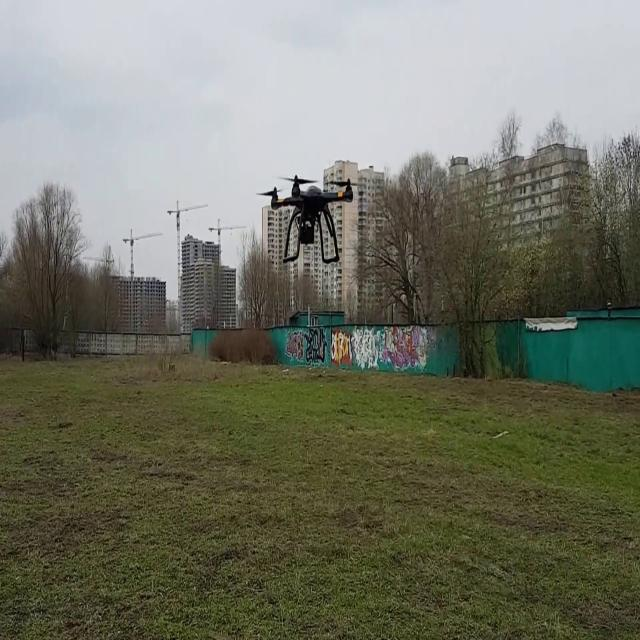Drons: (254, 170, 368, 270)
